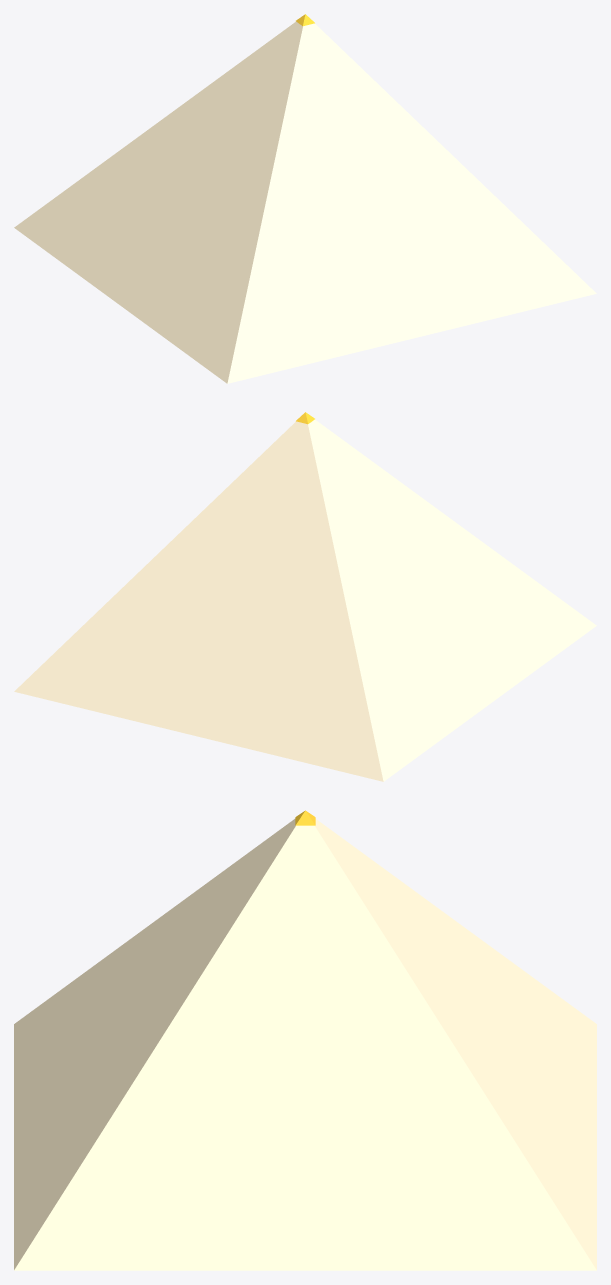
File: giza-khufu.glb
The picture shows the model from 3 angles, top to bottom: view 1: azimuth 30°, elevation 25°; view 2: azimuth 150°, elevation 25°; view 3: azimuth 270°, elevation 25°; orthographic projection. The views are drawn at different scales.
Visible parts, largest first — view 1: object 1; view 2: object 1; view 3: object 1.
Boxes of the visible parts, x1,y1,x2,y2 form: object 1: [14, 21, 596, 383]; object 1: [14, 419, 596, 781]; object 1: [14, 819, 596, 1270].
Size of the model in its own units: 230 by 147 by 230.
